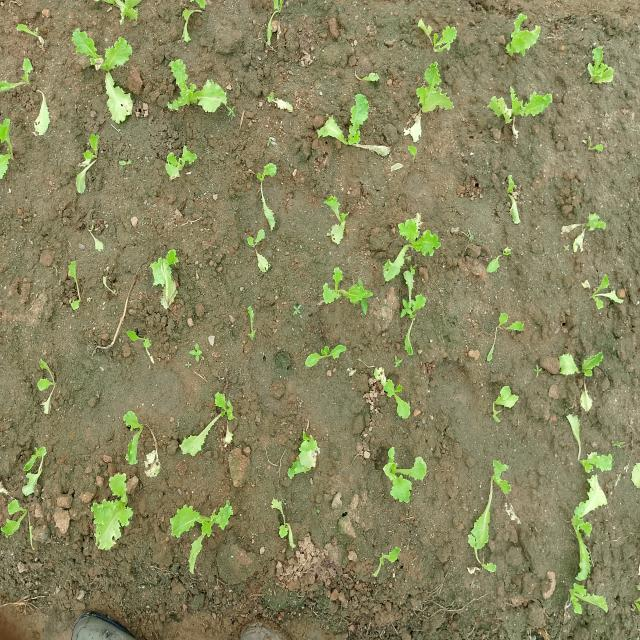Lettuce: (71, 24, 141, 124), (465, 452, 521, 563), (547, 191, 626, 264), (558, 481, 610, 581), (180, 382, 243, 464), (171, 53, 229, 131), (165, 498, 242, 556), (381, 210, 439, 280), (562, 410, 624, 474), (248, 152, 294, 236), (85, 487, 139, 554), (311, 95, 375, 151), (374, 449, 438, 503), (567, 259, 629, 314), (372, 362, 425, 426), (4, 59, 55, 123), (315, 264, 375, 316), (144, 247, 186, 318), (483, 310, 529, 367), (281, 429, 326, 487), (412, 62, 451, 128), (485, 370, 528, 429), (122, 404, 160, 469), (486, 85, 558, 119), (114, 315, 160, 365), (496, 168, 530, 233), (554, 344, 609, 384), (18, 434, 52, 498), (255, 0, 298, 49), (500, 15, 541, 66), (413, 20, 468, 57), (75, 130, 103, 202), (319, 196, 356, 246), (172, 0, 217, 41), (0, 498, 34, 552), (565, 576, 612, 615), (160, 145, 205, 184), (302, 339, 352, 374), (99, 0, 150, 33), (0, 110, 21, 181), (239, 302, 271, 346), (64, 258, 87, 316), (264, 85, 298, 123), (34, 358, 57, 412), (589, 44, 612, 92)
